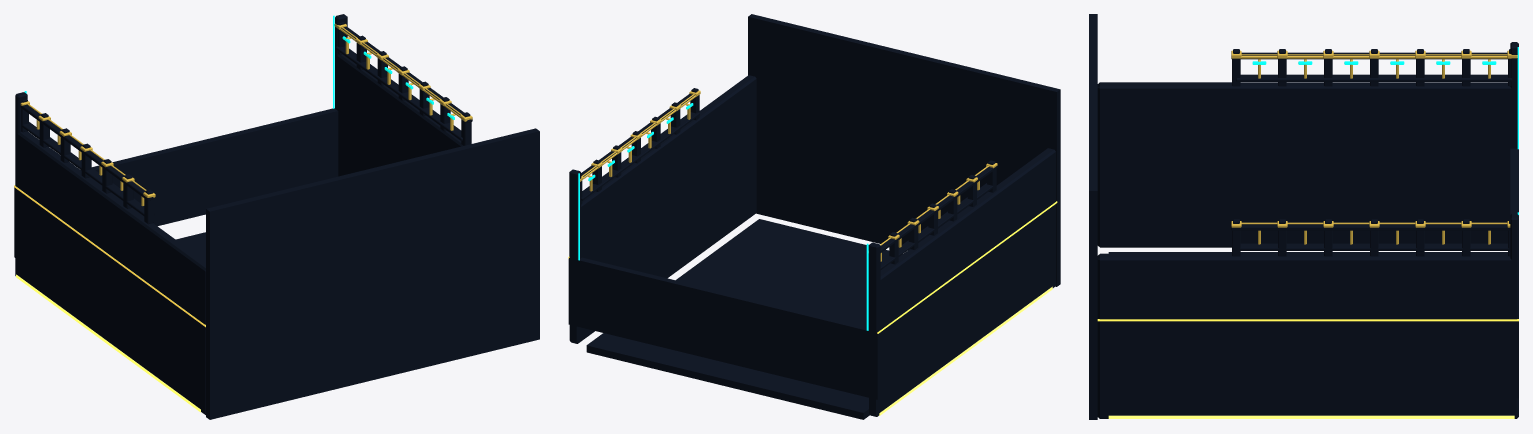
The model's file is cabinet.glb.
3 views of the same model, side by side, from view 1: azimuth 30°, elevation 25°; view 2: azimuth 150°, elevation 25°; view 3: azimuth 270°, elevation 25° (orthographic). The views are drawn at different scales.
Parts seen in each view (by area): view 1: back_shell, shell_side_L, front_panel_lower, shell_side_R, fence_handrail_L, fence_lower_rail_R, fence_lower_rail_L, fence_handrail_R, plinth_glow_L, front_bezel_L, trim_gold_rail_lo_L; view 2: back_shell, shell_side_L, shell_side_R, front_panel_lower, plinth, front_bezel_L, fence_handrail_L, fence_lower_rail_R, fence_lower_rail_L, front_bezel_R, fence_handrail_R, plinth_glow_L (+1 smaller); view 3: shell_side_R, shell_side_L, back_shell, fence_handrail_R, fence_lower_rail_L, fence_lower_rail_R, fence_handrail_L, plinth_glow_R, trim_gold_rail_lo_R, front_bezel_R, front_panel_lower, plinth (+1 smaller).
Part boxes in pixels (box(x1,y1,x2,y2)): back_shell: box(206, 128, 539, 419); shell_side_L: box(15, 131, 205, 414); front_panel_lower: box(14, 108, 338, 259); shell_side_R: box(335, 54, 463, 176); fence_handrail_L: box(20, 103, 154, 200); fence_lower_rail_R: box(335, 46, 462, 140); fence_lower_rail_L: box(21, 122, 154, 216); fence_handrail_R: box(340, 26, 472, 122); plinth_glow_L: box(16, 274, 200, 412); front_bezel_L: box(15, 92, 27, 257); trim_gold_rail_lo_L: box(14, 185, 205, 327); back_shell: box(748, 14, 1060, 286); shell_side_L: box(869, 148, 1055, 416); shell_side_R: box(569, 75, 756, 343); front_panel_lower: box(568, 257, 881, 399); plinth: box(586, 219, 902, 419); front_bezel_L: box(868, 242, 880, 397); fence_handrail_L: box(880, 165, 997, 252); fence_lower_rail_R: box(581, 112, 699, 200); fence_lower_rail_L: box(880, 183, 994, 269); front_bezel_R: box(569, 169, 581, 323); fence_handrail_R: box(581, 94, 695, 178); plinth_glow_L: box(879, 286, 1052, 415); shell_side_R: box(1097, 253, 1518, 418); shell_side_L: box(1097, 82, 1516, 247); back_shell: box(1089, 14, 1097, 419); fence_handrail_R: box(1231, 222, 1510, 230); fence_lower_rail_L: box(1236, 74, 1512, 81); fence_lower_rail_R: box(1237, 243, 1510, 250); fence_handrail_L: box(1231, 52, 1507, 59); plinth_glow_R: box(1108, 415, 1514, 418); trim_gold_rail_lo_R: box(1097, 319, 1518, 321); front_bezel_R: box(1510, 213, 1518, 396); front_panel_lower: box(1510, 148, 1518, 398); plinth: box(1108, 252, 1507, 253).
Size of the model in its own units: 9.72 by 6.06 by 9.95.
